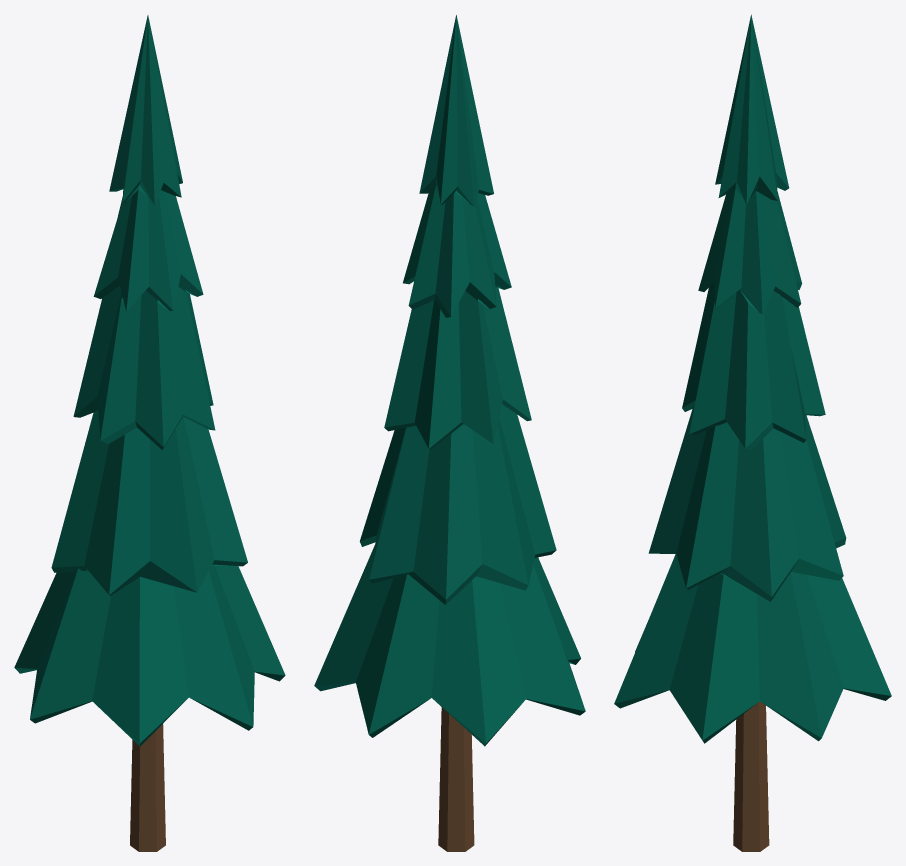
File: PineTree.002.fbx
The picture shows the model from 3 angles, left to right: view 1: azimuth 30°, elevation 25°; view 2: azimuth 150°, elevation 25°; view 3: azimuth 270°, elevation 25°; orthographic projection.
Visible parts, largest first — view 1: PineTree.002; view 2: PineTree.002; view 3: PineTree.002.
Part boxes in pixels (<box>): PineTree.002: <box>14,15,285,851</box>; PineTree.002: <box>314,15,585,851</box>; PineTree.002: <box>614,14,891,851</box>.
Bounding box in the file's own units: 759 × 2541 × 770.
